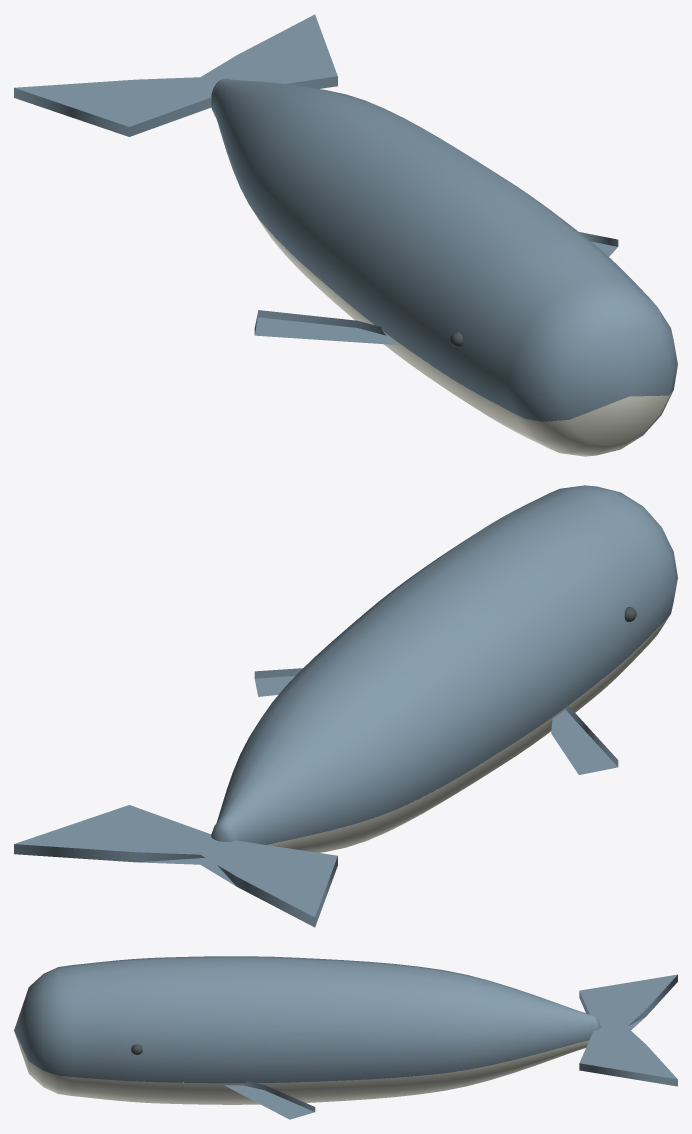
The model's file is real-sperm.glb.
3 views of the same model, one above another, from view 1: azimuth 30°, elevation 25°; view 2: azimuth 150°, elevation 25°; view 3: azimuth 270°, elevation 25° (orthographic). The views are drawn at different scales.
Parts seen in each view (by area): view 1: sperm-whale; view 2: sperm-whale; view 3: sperm-whale.
Boxes of the visible parts, box(x1,y1,x2,y2) form: sperm-whale: box(14, 14, 677, 456); sperm-whale: box(14, 485, 677, 927); sperm-whale: box(14, 956, 677, 1119).
Size of the model in its own units: 7.22 by 3.54 by 16.
